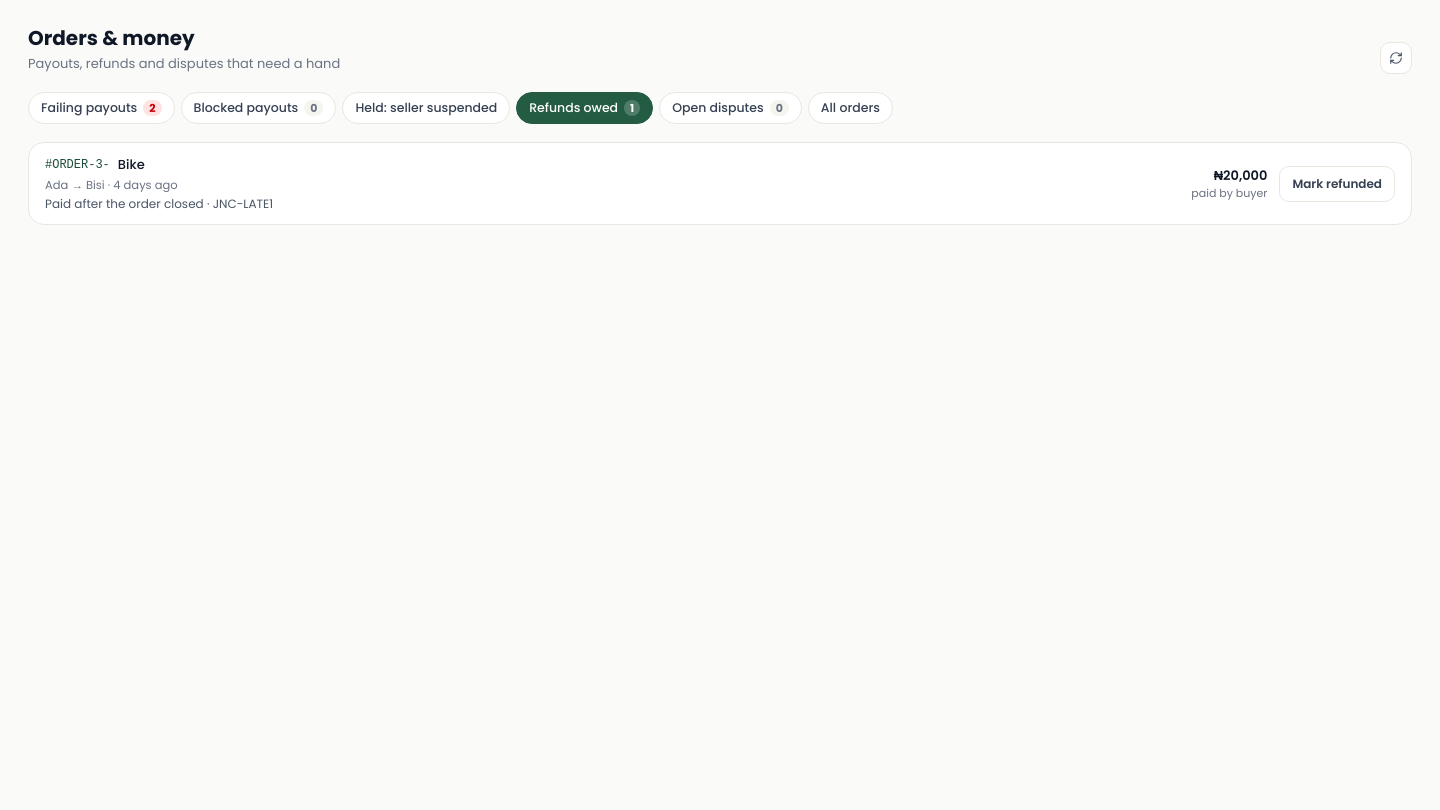
AdminOrdersPage › records a manual refund
Click the button "Mark refunded": (1337, 184) 1279,166 -> 1395,202
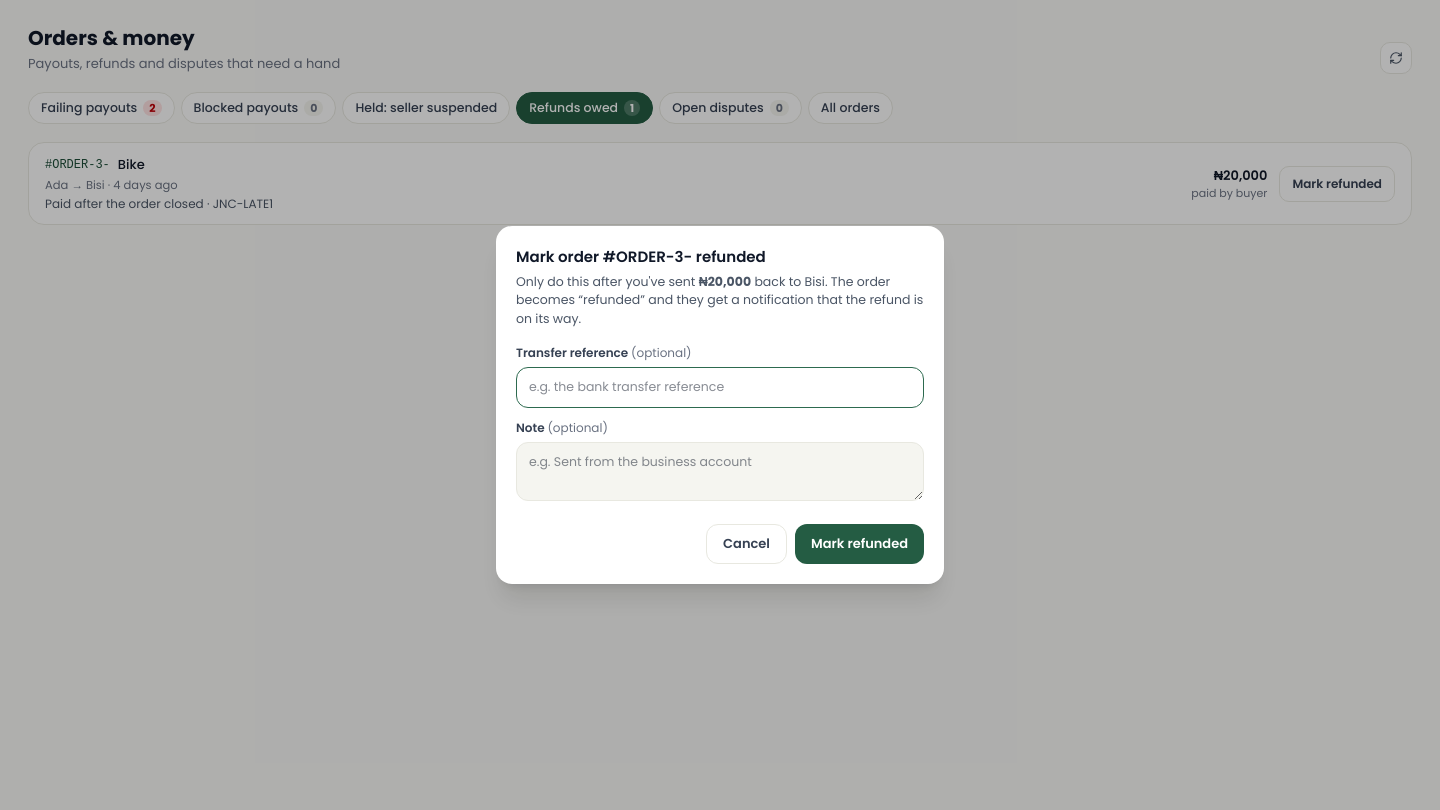
In the field labelled "Transfer reference (optional)": (720, 387) 516,367 -> 924,408, type " BANK-123 "
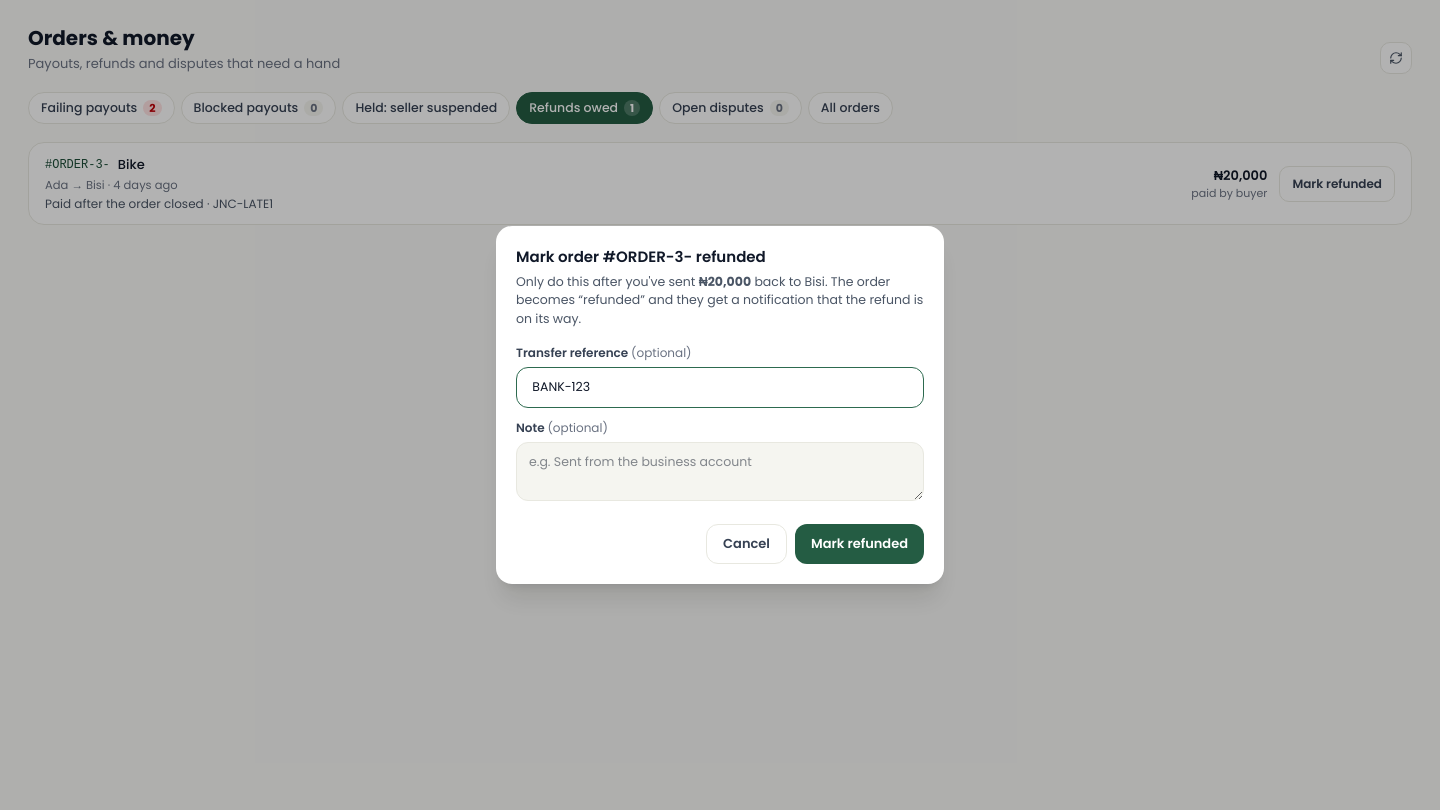
In the text box labelled "Note (optional)": (720, 471) 516,442 -> 924,501, type "From the business account"
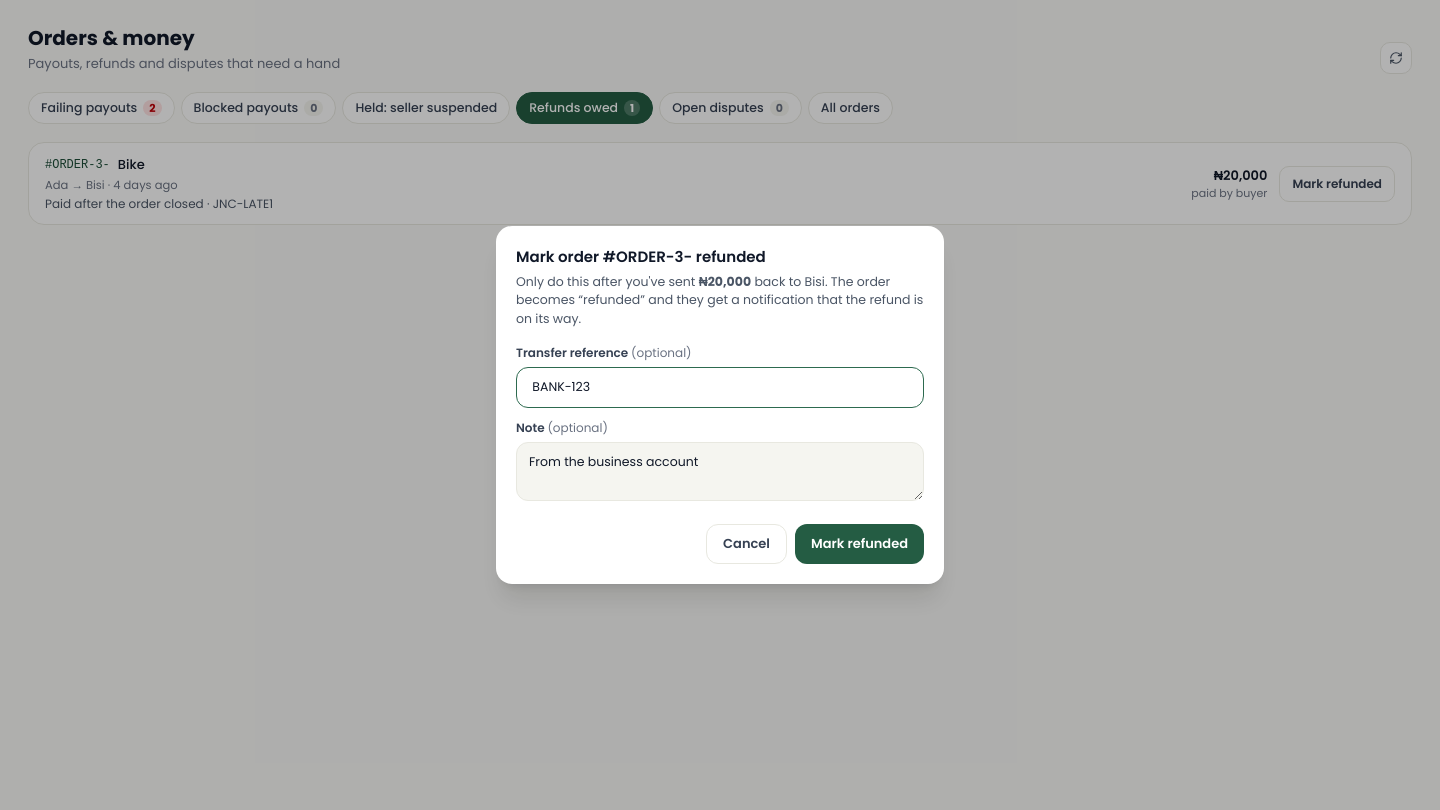
Click the button "Mark refunded": (860, 544) 795,524 -> 924,564
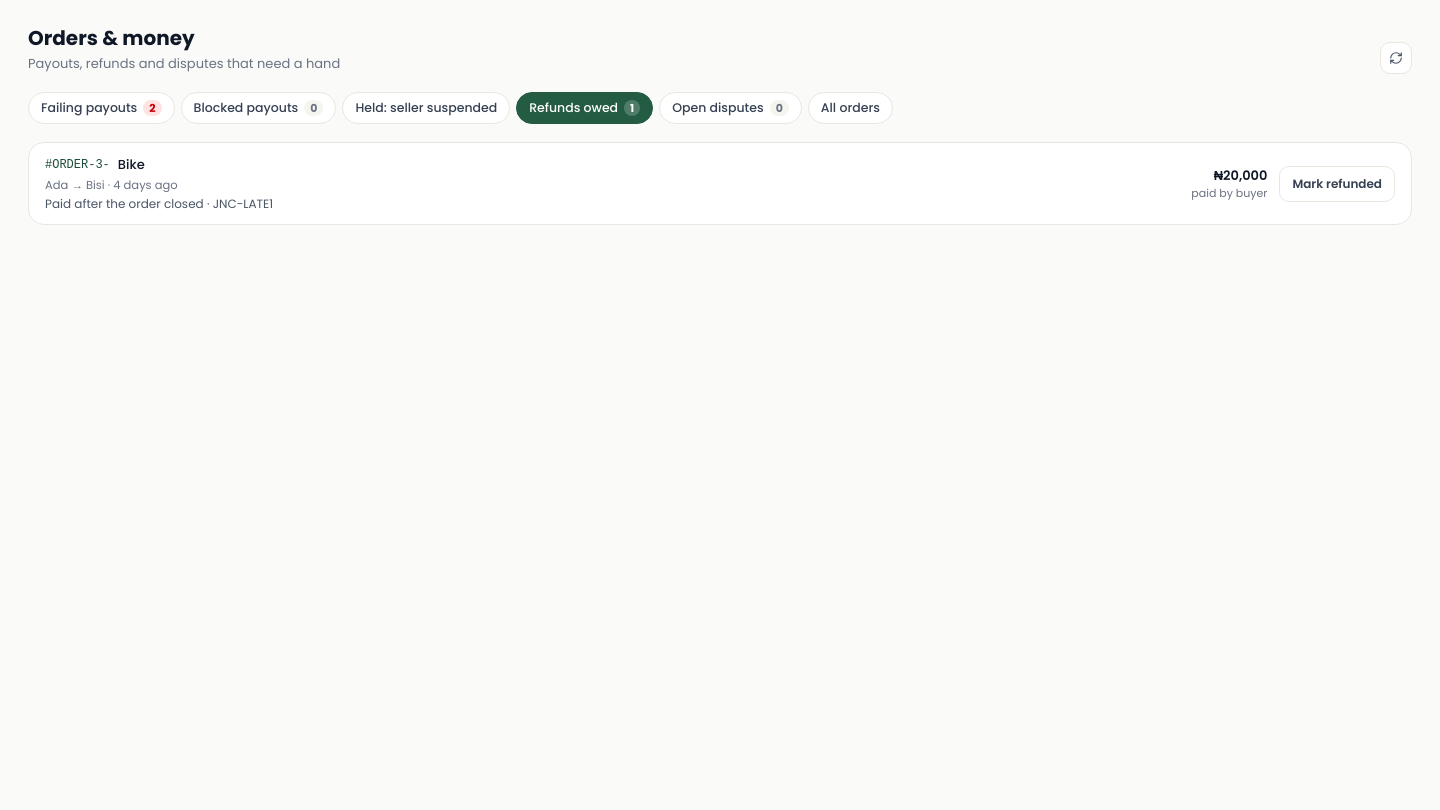
Check: the dialog is gone
